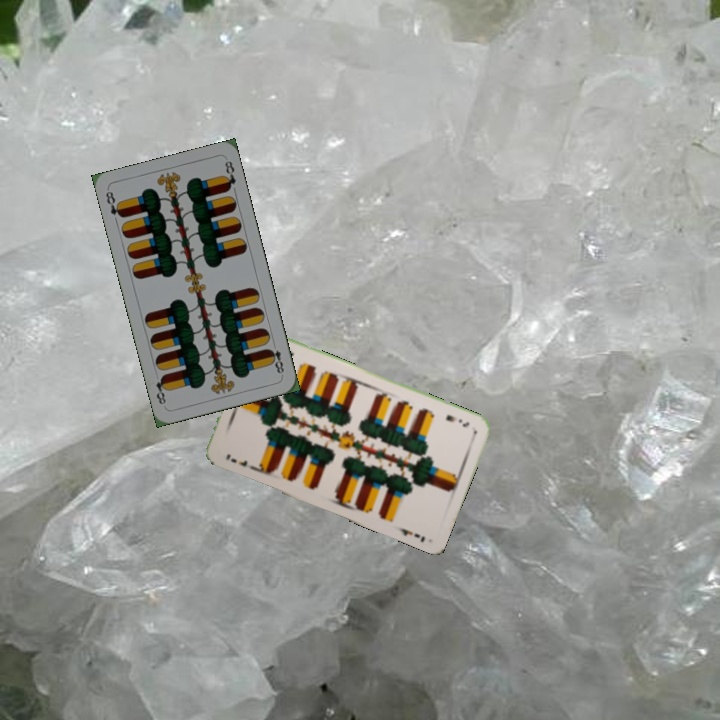E7: (442, 410, 472, 430), (222, 450, 250, 469)
E8: (265, 338, 287, 378), (101, 187, 126, 220)
